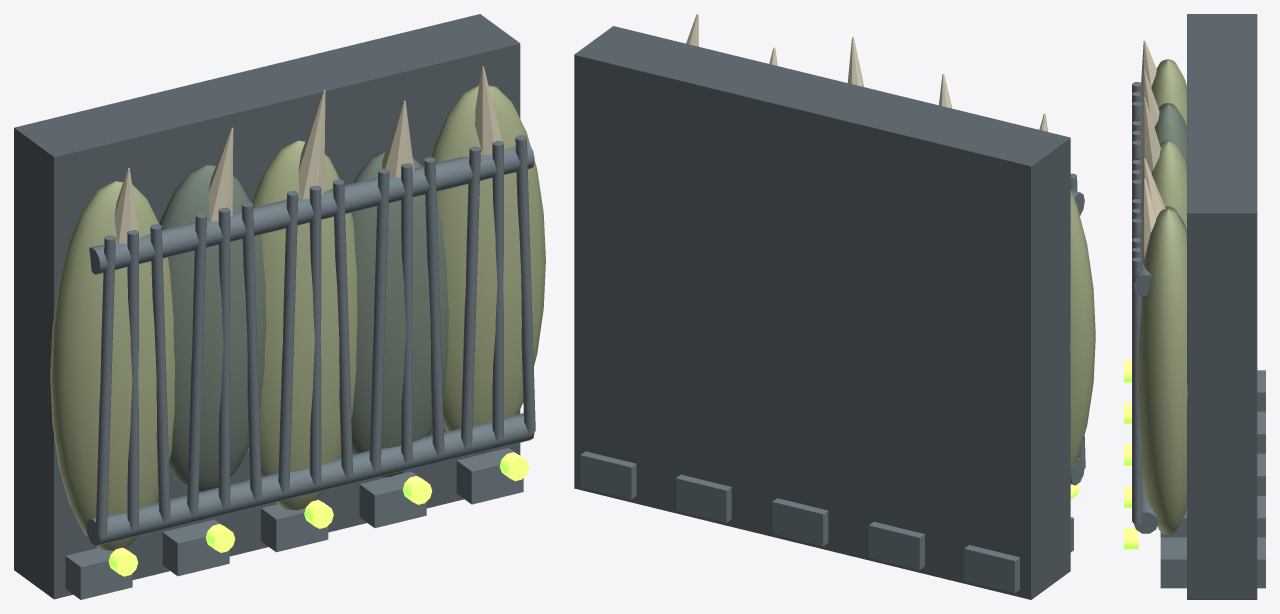
File: 18_Chitin_Carapace_Wall.fbx
The picture shows the model from 3 angles, left to right: view 1: azimuth 30°, elevation 25°; view 2: azimuth 150°, elevation 25°; view 3: azimuth 270°, elevation 25°; orthographic projection. The views are drawn at different scales.
Parts seen in each view (by area): view 1: 18_Chitin_Carapace_Wall; view 2: 18_Chitin_Carapace_Wall; view 3: 18_Chitin_Carapace_Wall.
Boxes of the visible parts, bbox=[...] form: 18_Chitin_Carapace_Wall: bbox=[14, 14, 545, 599]; 18_Chitin_Carapace_Wall: bbox=[574, 14, 1095, 599]; 18_Chitin_Carapace_Wall: bbox=[1124, 14, 1265, 599].
Size of the model in its own units: 3.38 by 3.08 by 0.97.
